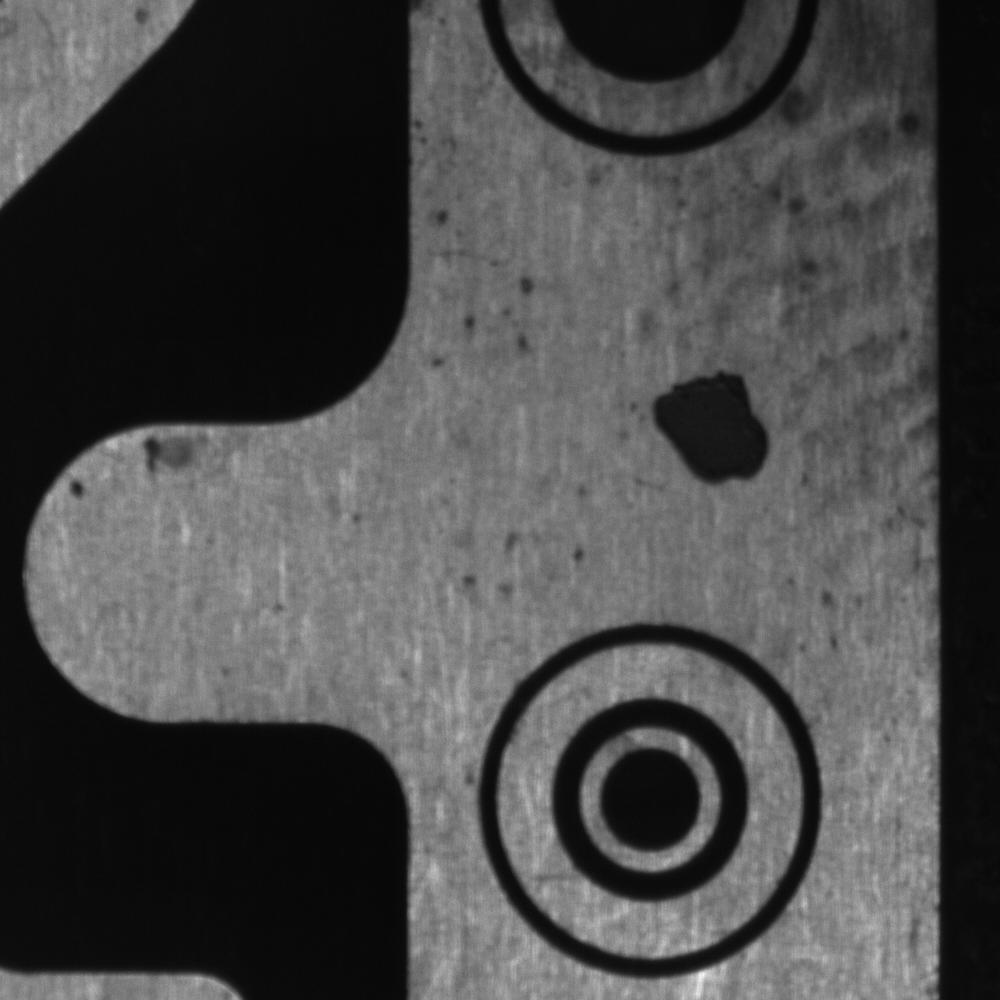Discolor: (819, 1, 938, 553), (625, 341, 821, 515)
Etching: (666, 161, 813, 336), (423, 269, 553, 378), (444, 522, 538, 608), (126, 429, 237, 489), (412, 113, 464, 234), (570, 474, 601, 572), (61, 471, 112, 523)
